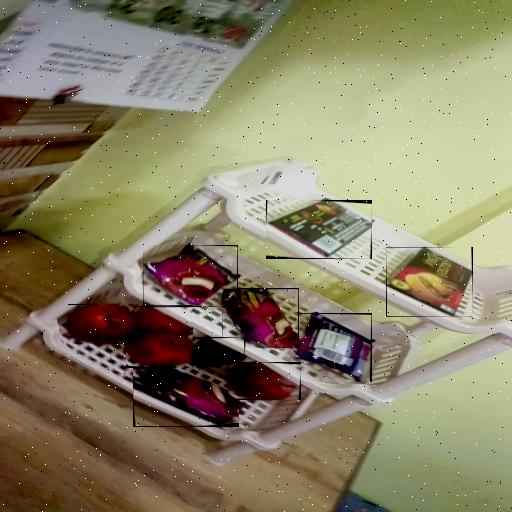Apple: (68, 304, 138, 344), (228, 362, 301, 400), (124, 328, 192, 368), (191, 337, 245, 368), (134, 306, 192, 332)
Choco Fills: (266, 200, 372, 259), (386, 247, 473, 317)
Choco Pie: (133, 365, 239, 427), (143, 245, 238, 307), (293, 313, 372, 382), (222, 288, 299, 348)
